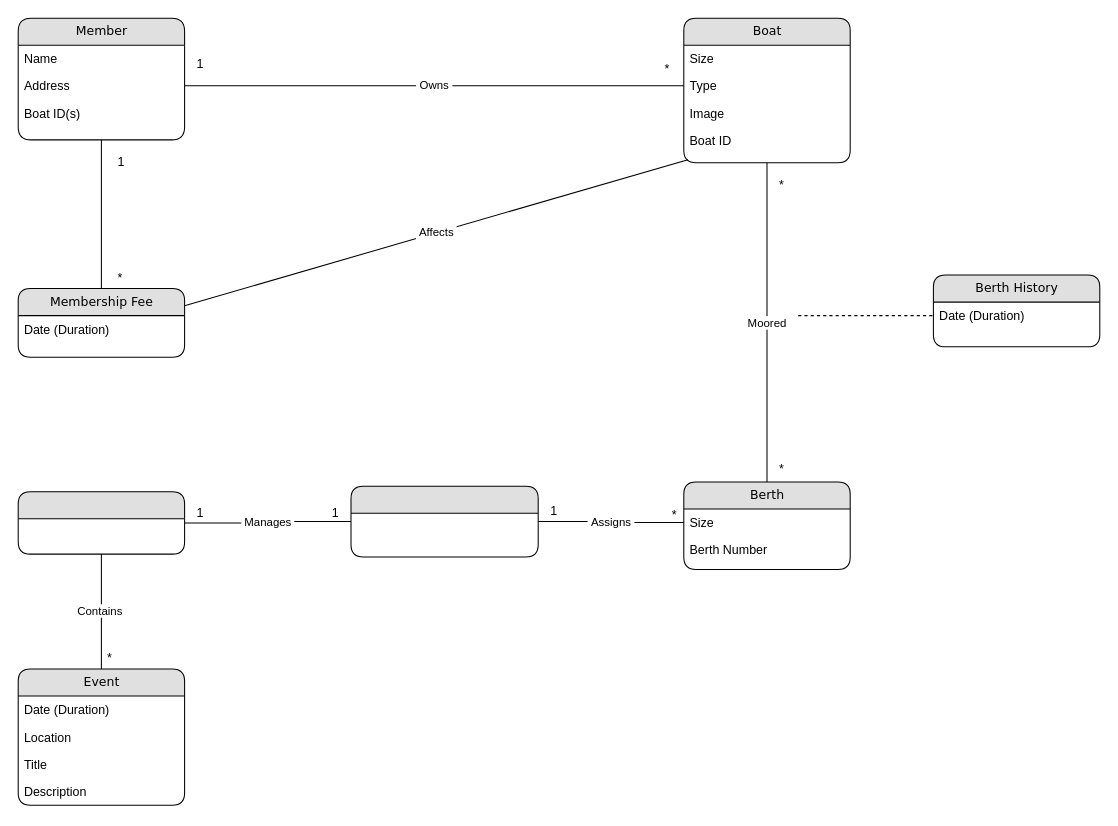
Some shapes in this 1118 by 826 pixel diagram are drawn without their labels. The shapes that lost their labels are listed below. From the top down, each one's centre as x and y in pixels, then its label:
At point (101, 522): "Calendar".
At point (444, 521): "Secretary".
